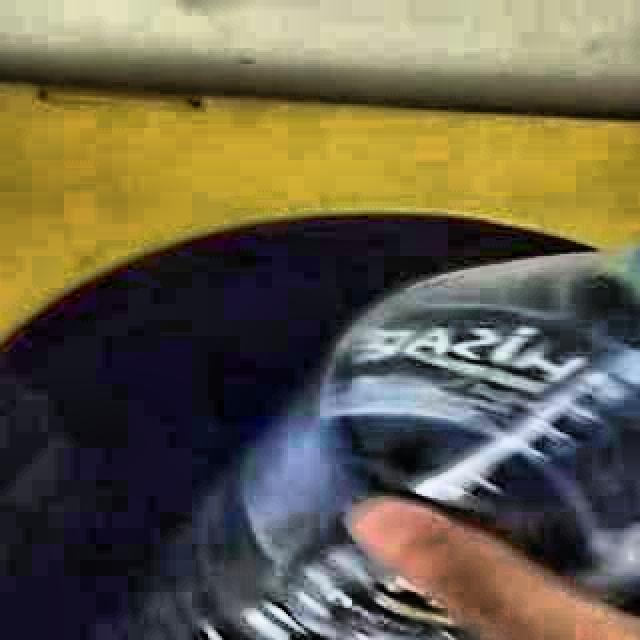plastic: (161, 246, 640, 640)
